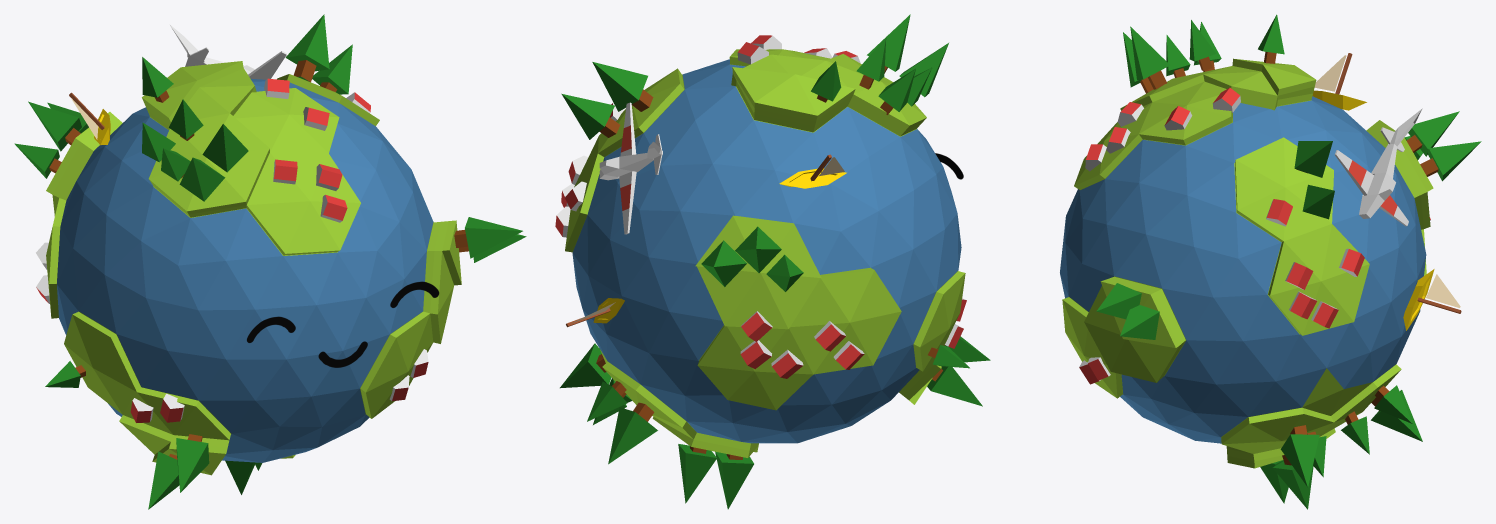
File: good.glb
The picture shows the model from 3 angles, left to right: view 1: azimuth 30°, elevation 25°; view 2: azimuth 150°, elevation 25°; view 3: azimuth 270°, elevation 25°; orthographic projection. The views are drawn at different scales.
Parts seen in each view (by area): view 1: Icosphere, Plane.013, Plane.016, 007, Plane.027, Plane.005, Plane.003, Plane.011, Plane.010, Plane.014, Plane.024, Plane.012 (+7 smaller); view 2: Icosphere, Plane.003, Plane.013, Plane.017, Plane.014, Plane.022, Plane.020, Plane.023, Plane.005, Plane.006, Plane.049, Plane.024 (+13 smaller); view 3: Icosphere, Plane.003, Plane.002, Plane.020, Plane.049, Plane.011, Plane.006, Plane.005, Plane.013, Plane.015, Plane.016, Plane.022 (+15 smaller).
Part boxes in pixels (left/top/right/bottom): Icosphere: left=46, top=61, right=461, bottom=475; Plane.013: left=285, top=14, right=329, bottom=82; Plane.016: left=454, top=217, right=522, bottom=258; 007: left=247, top=281, right=439, bottom=367; Plane.027: left=176, top=434, right=209, bottom=492; Plane.005: left=28, top=101, right=81, bottom=151; Plane.003: left=169, top=24, right=286, bottom=79; Plane.011: left=202, top=124, right=248, bottom=172; Plane.010: left=179, top=157, right=225, bottom=201; Plane.014: left=312, top=44, right=352, bottom=94; Plane.024: left=148, top=451, right=179, bottom=509; Plane.012: left=142, top=57, right=173, bottom=102; Icosphere: left=565, top=49, right=965, bottom=457; Plane.003: left=599, top=102, right=662, bottom=234; Plane.013: left=592, top=62, right=653, bottom=111; Plane.017: left=608, top=402, right=657, bottom=464; Plane.014: left=561, top=93, right=620, bottom=139; Plane.022: left=678, top=444, right=716, bottom=503; Plane.020: left=560, top=343, right=611, bottom=388; Plane.023: left=715, top=451, right=753, bottom=509; Plane.005: left=735, top=226, right=781, bottom=272; Plane.006: left=701, top=240, right=746, bottom=286; Plane.049: left=779, top=154, right=846, bottom=188; Plane.024: left=927, top=366, right=982, bottom=406; Icosphere: left=1060, top=58, right=1433, bottom=468; Plane.003: left=1334, top=108, right=1422, bottom=226; Plane.002: left=1403, top=269, right=1461, bottom=330; Plane.020: left=1280, top=425, right=1319, bottom=487; Plane.049: left=1312, top=53, right=1366, bottom=110; Plane.011: left=1130, top=26, right=1170, bottom=89; Plane.006: left=1420, top=141, right=1481, bottom=181; Plane.005: left=1406, top=111, right=1459, bottom=156; Plane.013: left=1294, top=141, right=1332, bottom=177; Plane.015: left=1120, top=305, right=1159, bottom=339; Plane.016: left=1096, top=283, right=1141, bottom=319; Plane.022: left=1272, top=455, right=1313, bottom=509.
Size of the model in its own units: 2.58 by 2.76 by 2.4.
Materials: 12 (1 with a texture image).
